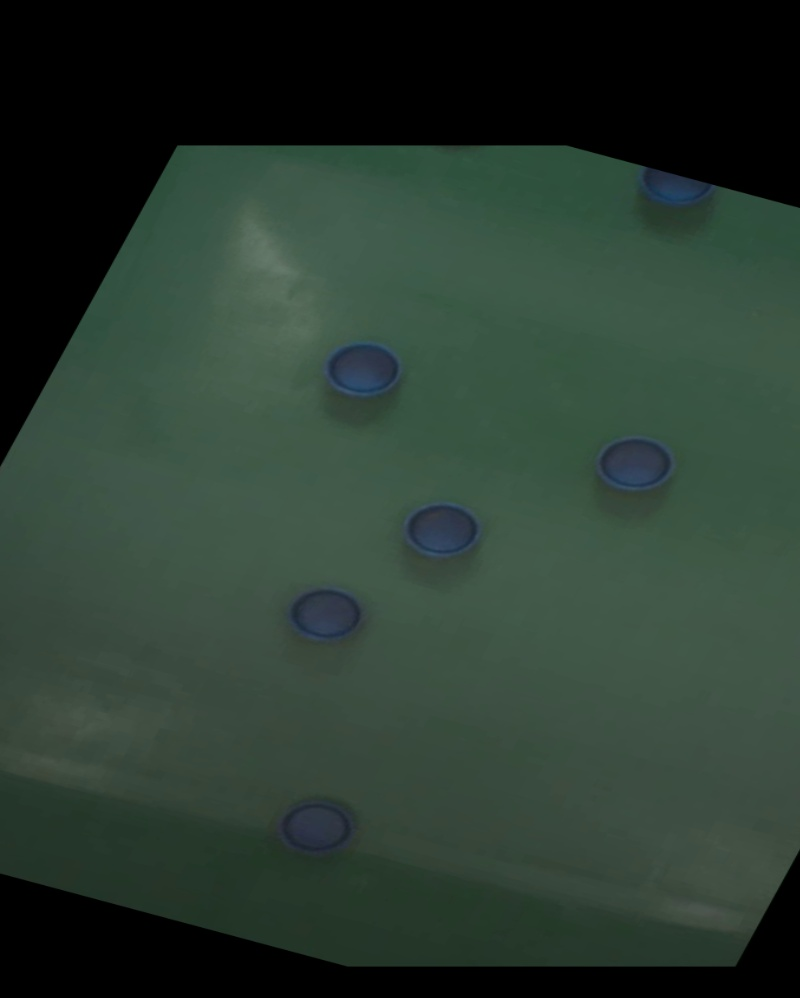Dark Blue: (585, 429, 687, 501), (392, 495, 492, 567), (280, 581, 372, 644), (269, 796, 361, 859), (315, 337, 407, 400)
